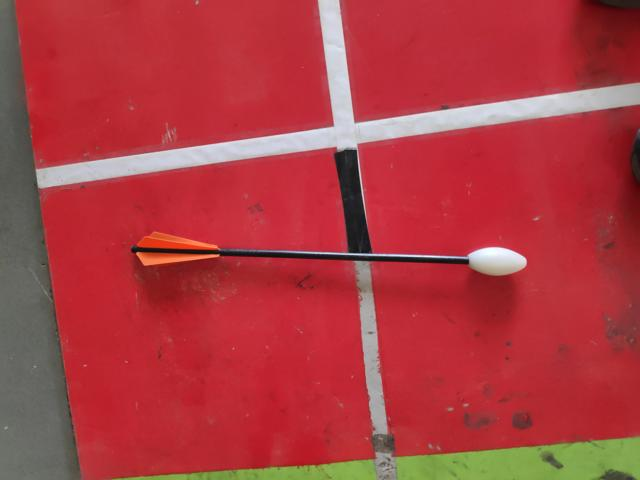Head: (465, 243, 533, 277)
Tail: (128, 229, 222, 269)
